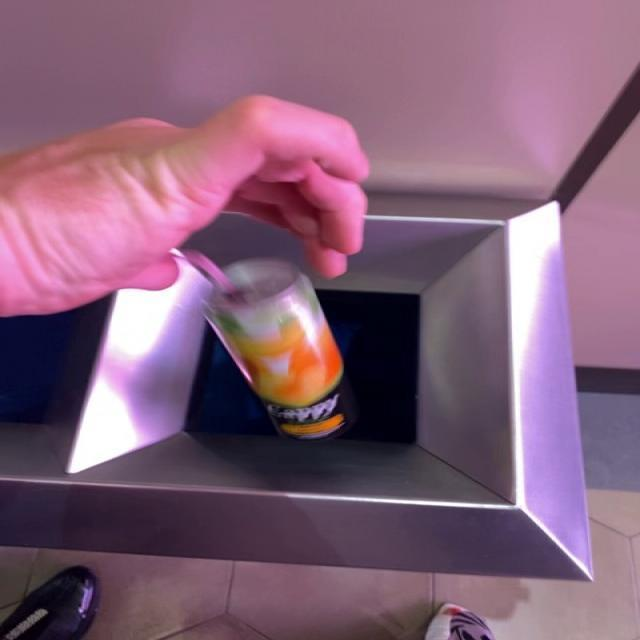Bin: (3, 194, 592, 580)
Metal: (205, 258, 357, 440)
